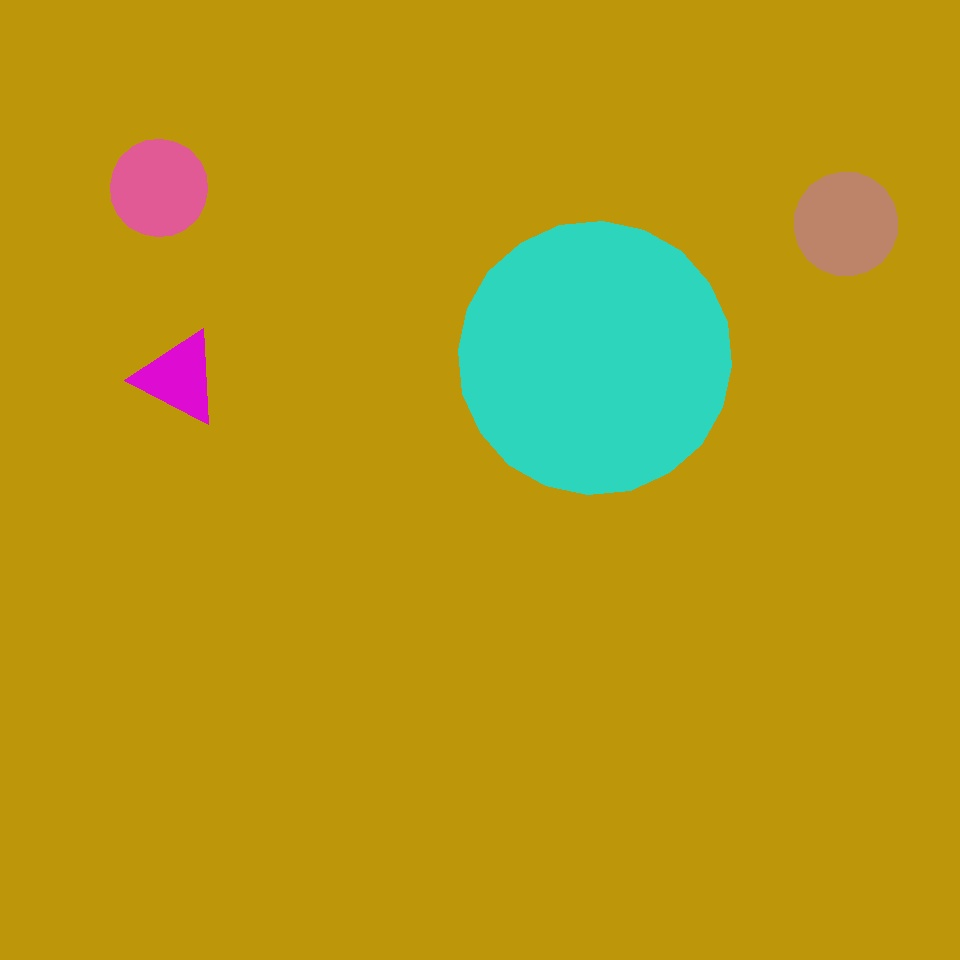circle: (137, 330, 221, 426)
square: (204, 239, 360, 395), (312, 661, 402, 752)
triangle: (458, 222, 732, 494), (638, 529, 867, 757), (794, 172, 897, 276), (110, 140, 207, 236)
